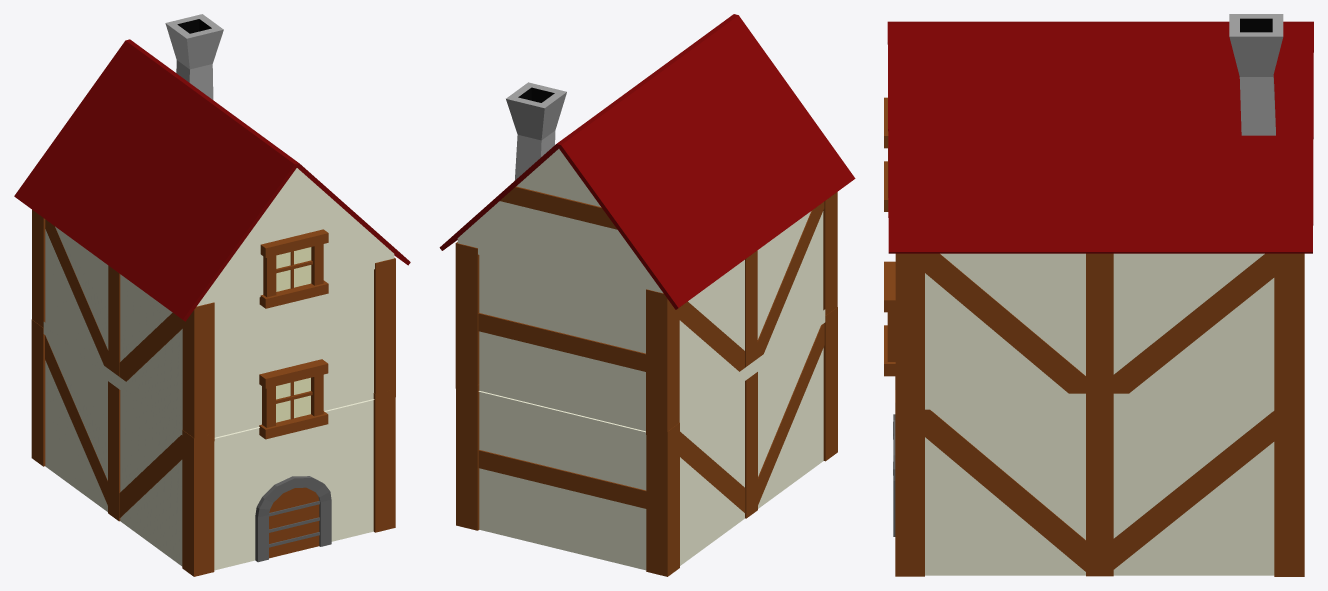
Rendered from CASA_2_2PIANI.fbx.
3 views of the same model, side by side, from view 1: azimuth 30°, elevation 25°; view 2: azimuth 150°, elevation 25°; view 3: azimuth 270°, elevation 25° (orthographic). The views are drawn at different scales.
Parts seen in each view (by area): view 1: House2.001; view 2: House2.001; view 3: House2.001.
Part boxes in pixels (x1,y1,x2,y2): House2.001: [14, 14, 410, 576]; House2.001: [439, 14, 855, 576]; House2.001: [884, 14, 1313, 576].
Size of the model in its own units: 1097 by 1887 by 1424.
